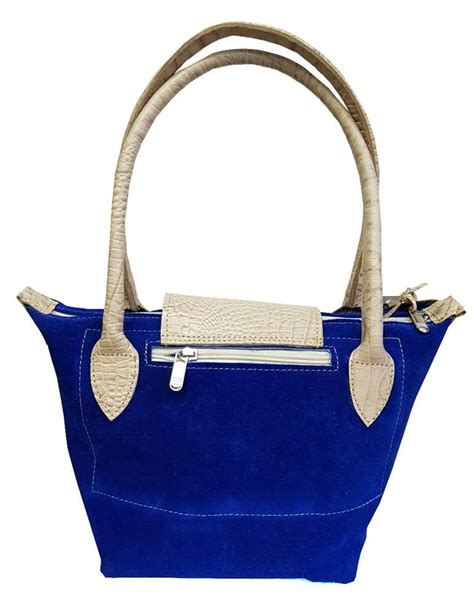gamuza: (15, 288, 455, 584)
